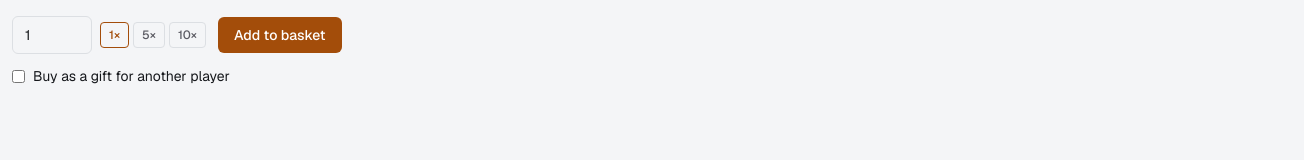
Scenario: AddToBasketButton — gifting › reveals the recipient input and gates submit on it once checked
Click the checkbox labelled "Buy as a gift for another player".
click(18, 76)  # box [12,70,25,82]
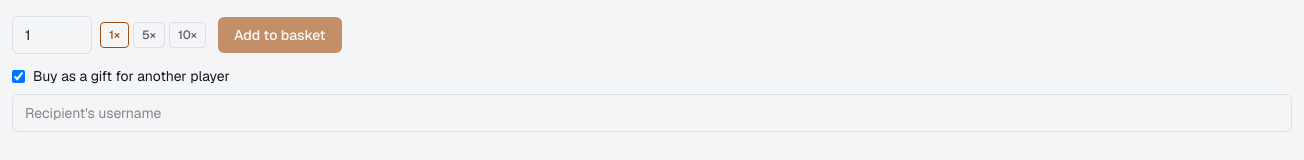
Check: the field labelled "Recipient's username" is shown, box [12,94,1292,132]
Check: the button "Add to basket" is disabled, box [218,17,342,53]
